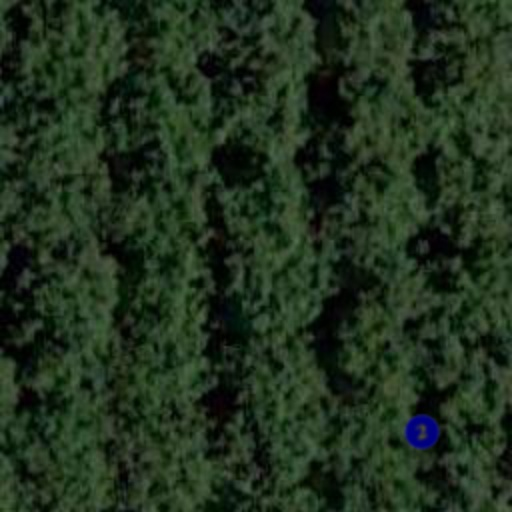circle: (398, 408, 446, 456)
